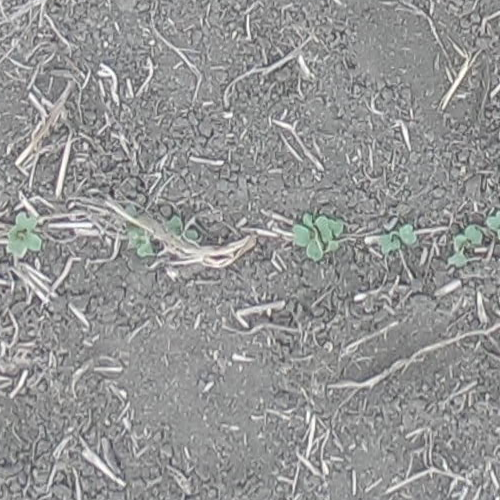clumped: (292, 213, 347, 266)
isolated: (3, 210, 43, 259), (446, 221, 484, 264), (375, 225, 419, 255), (123, 225, 156, 262), (165, 213, 202, 240), (487, 209, 499, 246)
